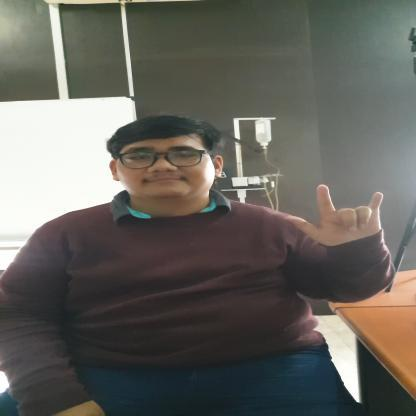ILoveYou: (288, 183, 392, 251)
